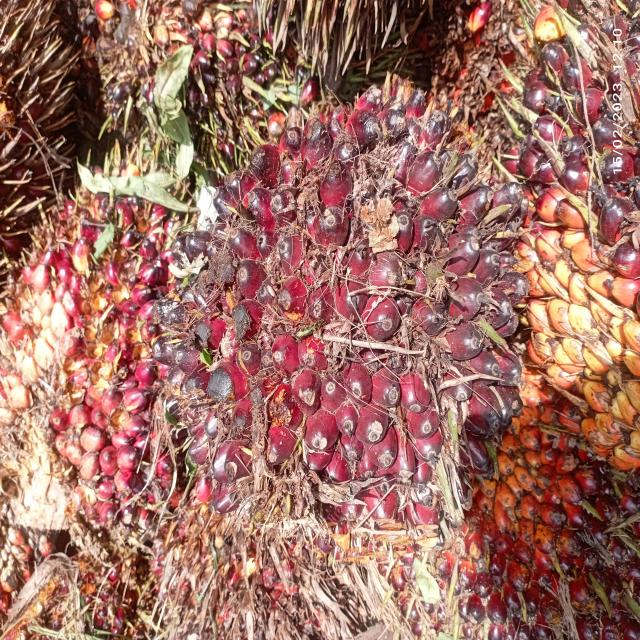fraksi 1: (160, 45, 557, 555), (0, 134, 223, 530)
fraksi 3: (433, 380, 612, 640)
